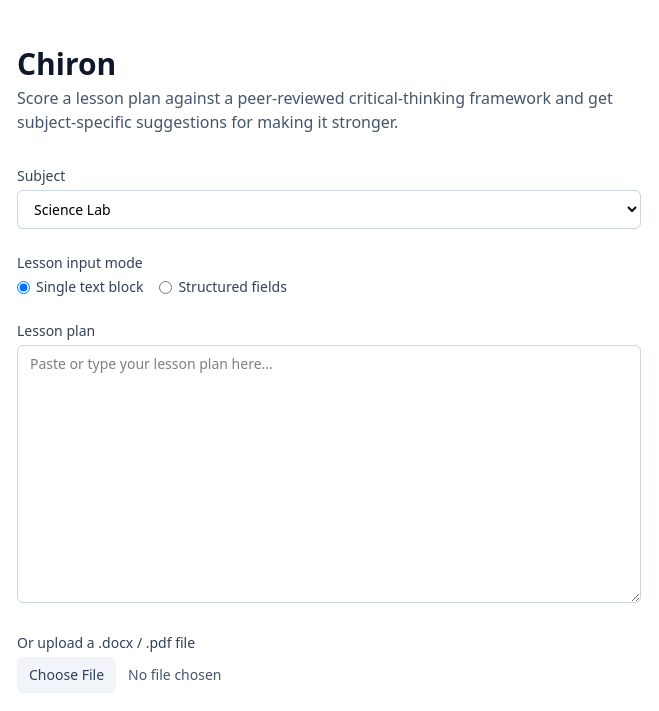
Test: lesson analyzer — input to score to revise loop › shows the specific rate-limit message on a 429, not a generic fallback
Type "A lesson about tectonic plates." into the text box labelled "Lesson plan" at (329, 474), box [17,345,641,603]
(page scrolled)
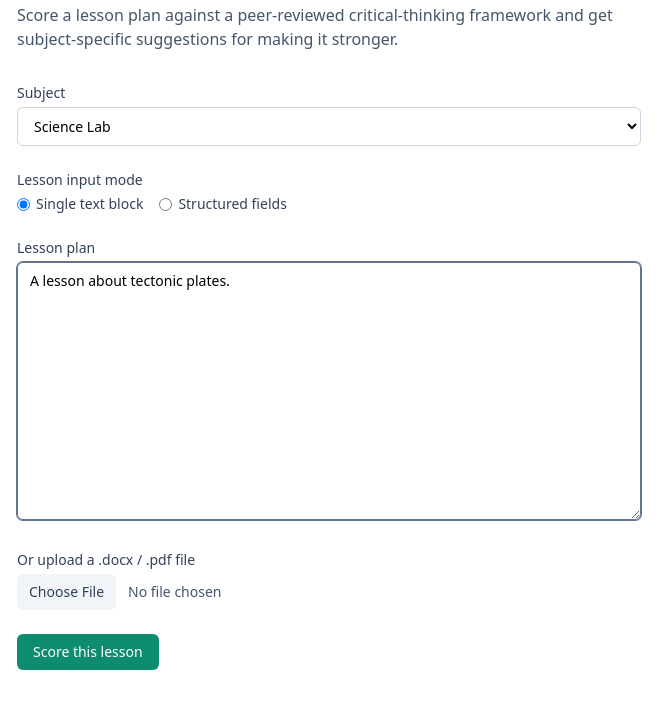
Click the button "Score this lesson" at (88, 652), box [17,634,159,670]
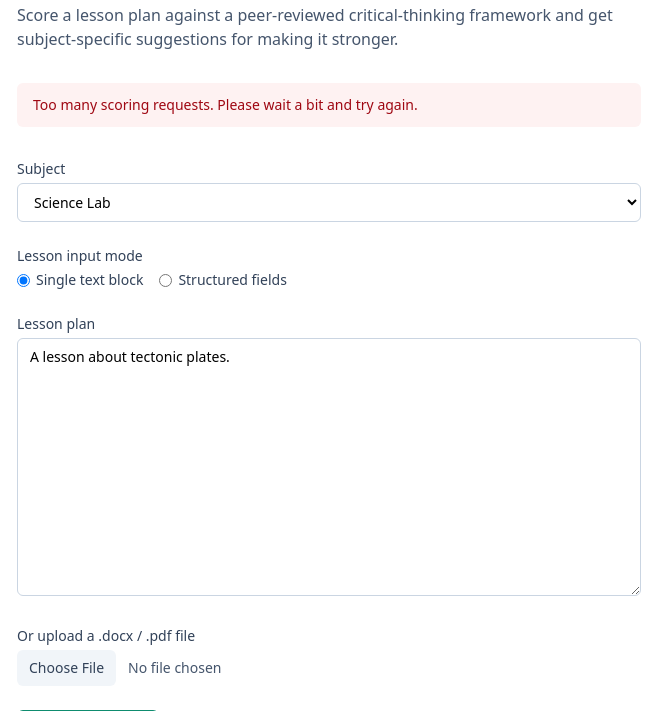
expect the text box labelled "Lesson plan" holds "A lesson about tectonic plates.": met, box [17,338,641,596]
expect the message reads "Too many scoring requests. Please wait a bit and try again.": met, box [33,95,418,114]
